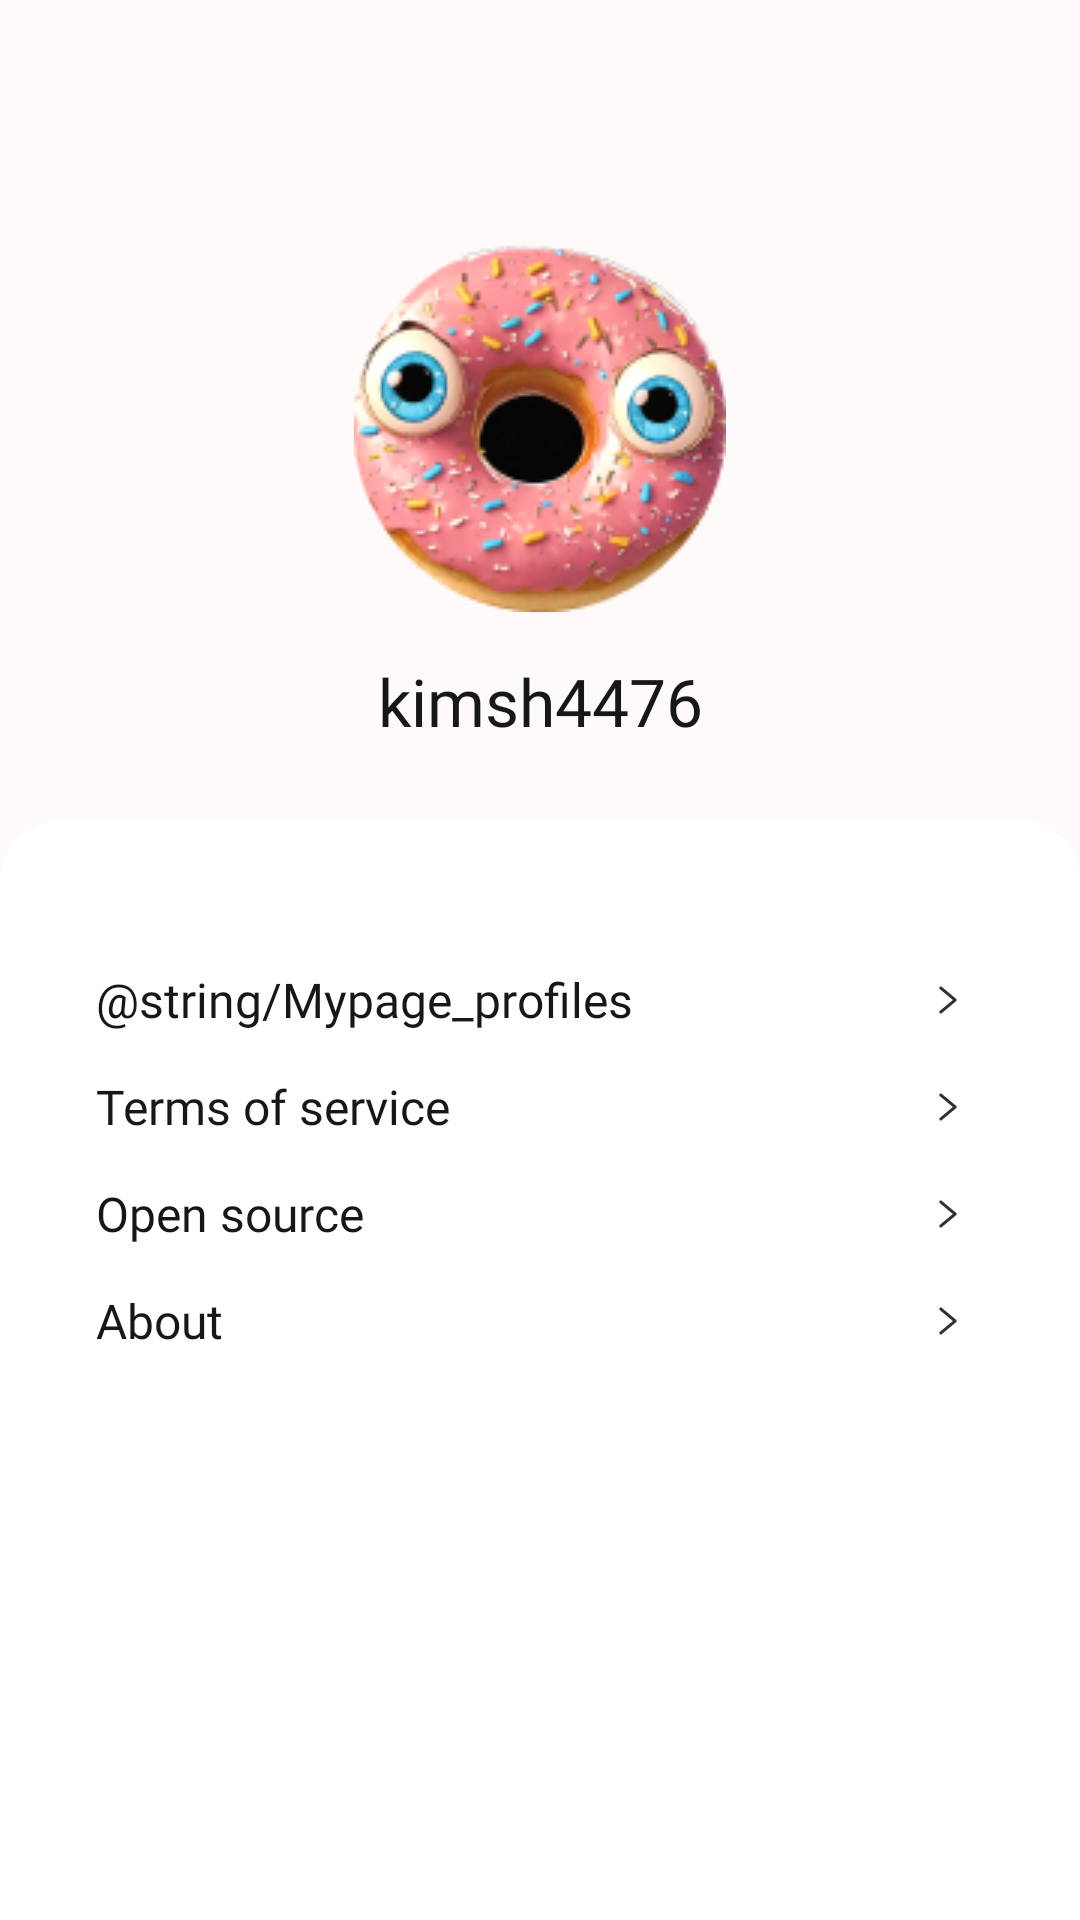

Named icons in this screenshot (1080*1920) and their centers, (x=x, y=y):
right: (x=948, y=1000), (x=948, y=1107), (x=948, y=1214), (x=948, y=1321)
